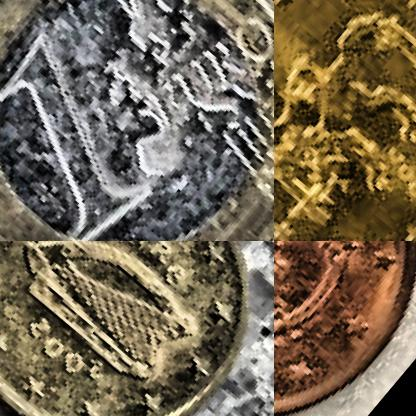coin: (0, 0, 273, 240), (0, 241, 273, 415), (274, 0, 415, 240), (274, 241, 415, 415)
